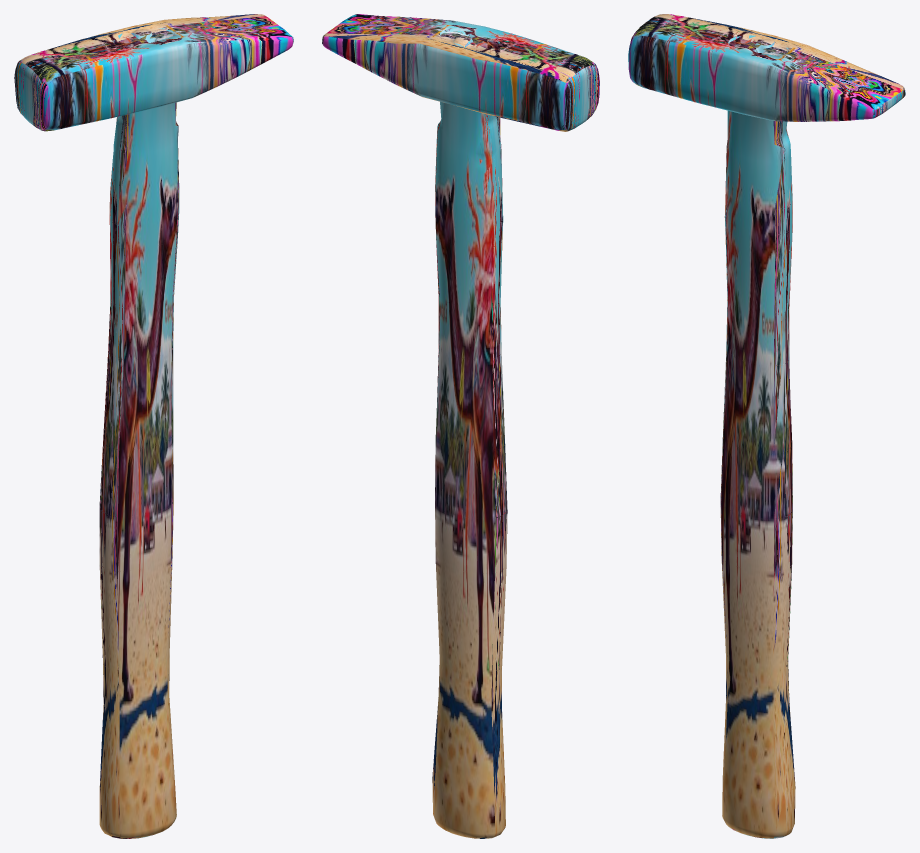
The model's file is ph_cross_pein_hammer.glb.
3 renders of one model, left to right at view 1: azimuth 30°, elevation 25°; view 2: azimuth 150°, elevation 25°; view 3: azimuth 330°, elevation 25°, orthographic.
Parts seen in each view (by area): view 1: A; view 2: A; view 3: A.
Part boxes in pixels (x1,y1,x2,y2): A: (14, 14, 293, 838); A: (322, 14, 599, 838); A: (628, 14, 905, 838).
Size of the model in its own units: 0.6599 by 2 by 0.1617.
1 material, 1 textured.
